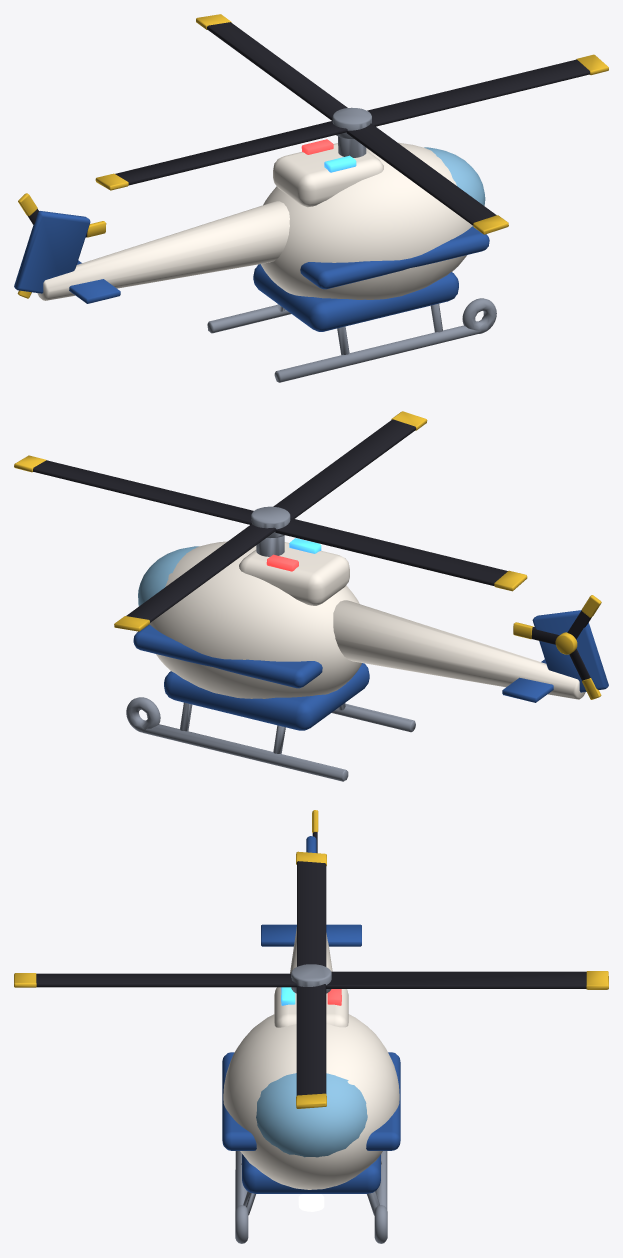
Rendered from heli.glb.
3 views of the same model, one above another, from view 1: azimuth 30°, elevation 25°; view 2: azimuth 150°, elevation 25°; view 3: azimuth 270°, elevation 25° (orthographic). The views are drawn at different scales.
Parts seen in each view (by area): view 1: heli.005, rotor.005, tail_rotor.005; view 2: heli.005, rotor.005, tail_rotor.005; view 3: heli.005, rotor.005.
Boxes of the visible parts, x1,y1,x2,y2 form: heli.005: (14,136,496,382); rotor.005: (95,14,608,234); tail_rotor.005: (17,193,106,298); heli.005: (126,535,608,781); rotor.005: (14,411,527,631); tail_rotor.005: (513,595,601,699); heli.005: (222,836,400,1243); rotor.005: (14,851,608,1108).
Bounding box in the file's own units: 7.53 × 2.65 × 6.41.
1 material, 1 textured.
